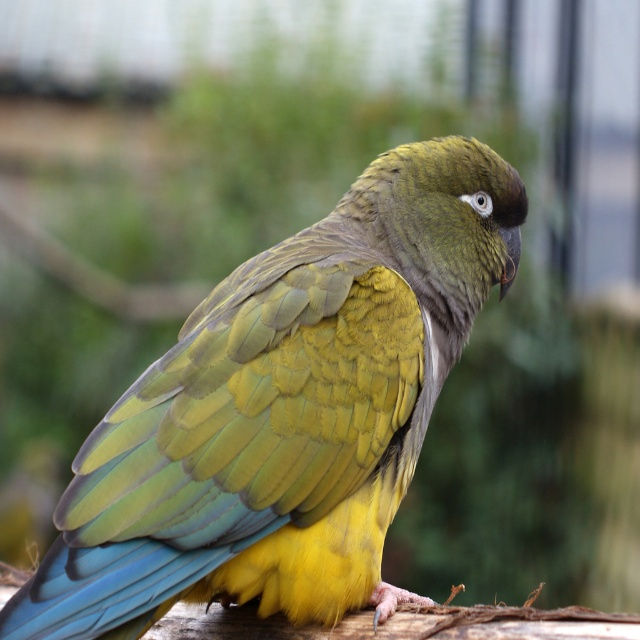Parrot: (0, 129, 530, 639)
